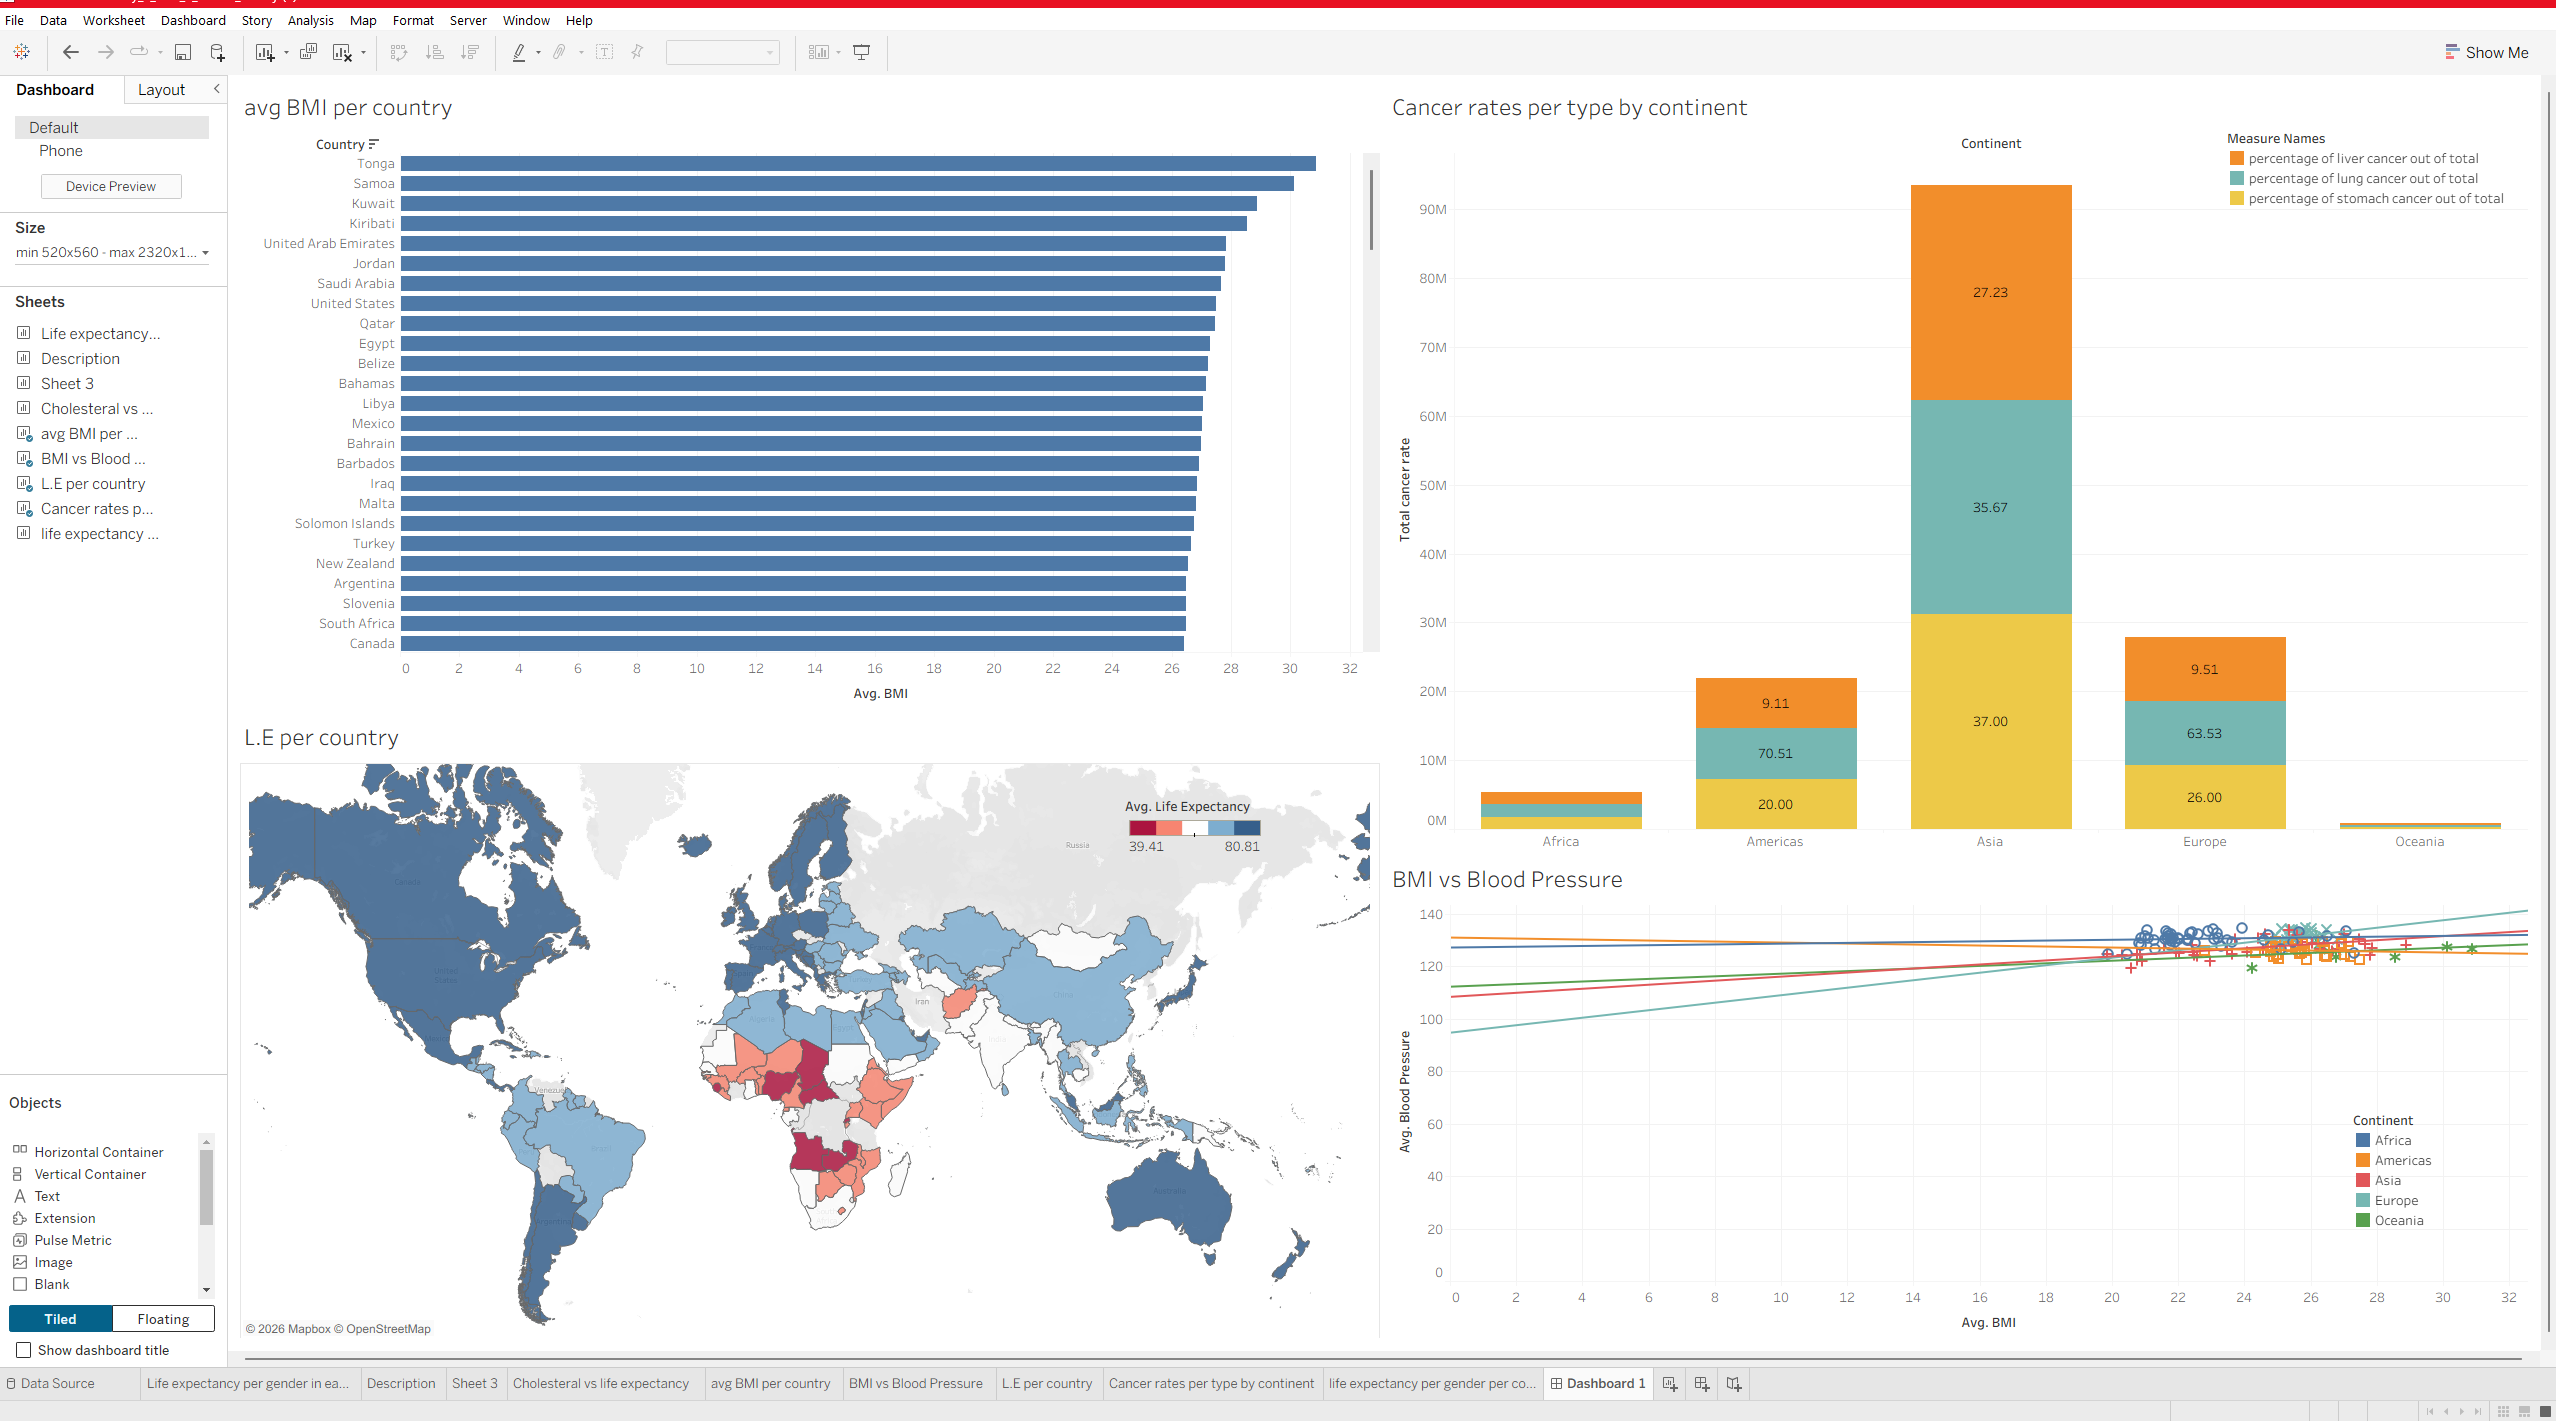

What the dashboard file says about the page in this screenshot:
{"tool":"tableau","page":{"name":"Dashboard 1","canvas":[1000,1000],"units":"permille","ordinal":0},"visuals":[{"type":"worksheet","title":"avg BMI per country","mark":"Automatic","rows":["Country"],"cols":["BMI"],"box":[3.5,6.3,496.5,493.7]},{"type":"worksheet","title":"Cancer rates per type by continent","mark":"Automatic","rows":["Calculation_1150949333970945"],"cols":["Continent"],"box":[500,6.3,496.5,605.5]},{"type":"legend","title":"Cancer rates per type by continent","param":"[federated.1vwc61e0gepmc311qbgl801tlgmw].[:Measure Names]","box":[864.6,42.4,122,62]},{"type":"worksheet","title":"L.E per country","mark":"Automatic","box":[3.5,500,496.5,493.7]},{"type":"legend","title":"L.E per country","param":"[federated.1vwc61e0gepmc311qbgl801tlgmw].[avg:Life Expectancy:qk]","box":[388,566.3,60.6,62]},{"type":"worksheet","title":"BMI vs Blood Pressure","mark":"Automatic","rows":["Blood Pressure"],"cols":["BMI"],"box":[500,611.8,496.5,382]},{"type":"legend","title":"BMI vs Blood Pressure","param":"[federated.1vwc61e0gepmc311qbgl801tlgmw].[none:Continent:nk]","box":[919.1,812.6,60.6,93.3]}]}

Visuals, with their boxes on the dashboard's canvas, which has no fixed pixel size, in thousandths of its width and height (x1, y1, x2, y2). These are canvas units, not pixel positions in the 2556x1421 screenshot, which may show the page scaled, cropped or inside an application window:
"avg BMI per country" worksheet: select_region(4, 6, 500, 500)
"Cancer rates per type by continent" worksheet: select_region(500, 6, 996, 612)
"Cancer rates per type by continent" legend: select_region(865, 42, 987, 104)
"L.E per country" worksheet: select_region(4, 500, 500, 994)
"L.E per country" legend: select_region(388, 566, 449, 628)
"BMI vs Blood Pressure" worksheet: select_region(500, 612, 996, 994)
"BMI vs Blood Pressure" legend: select_region(919, 813, 980, 906)
